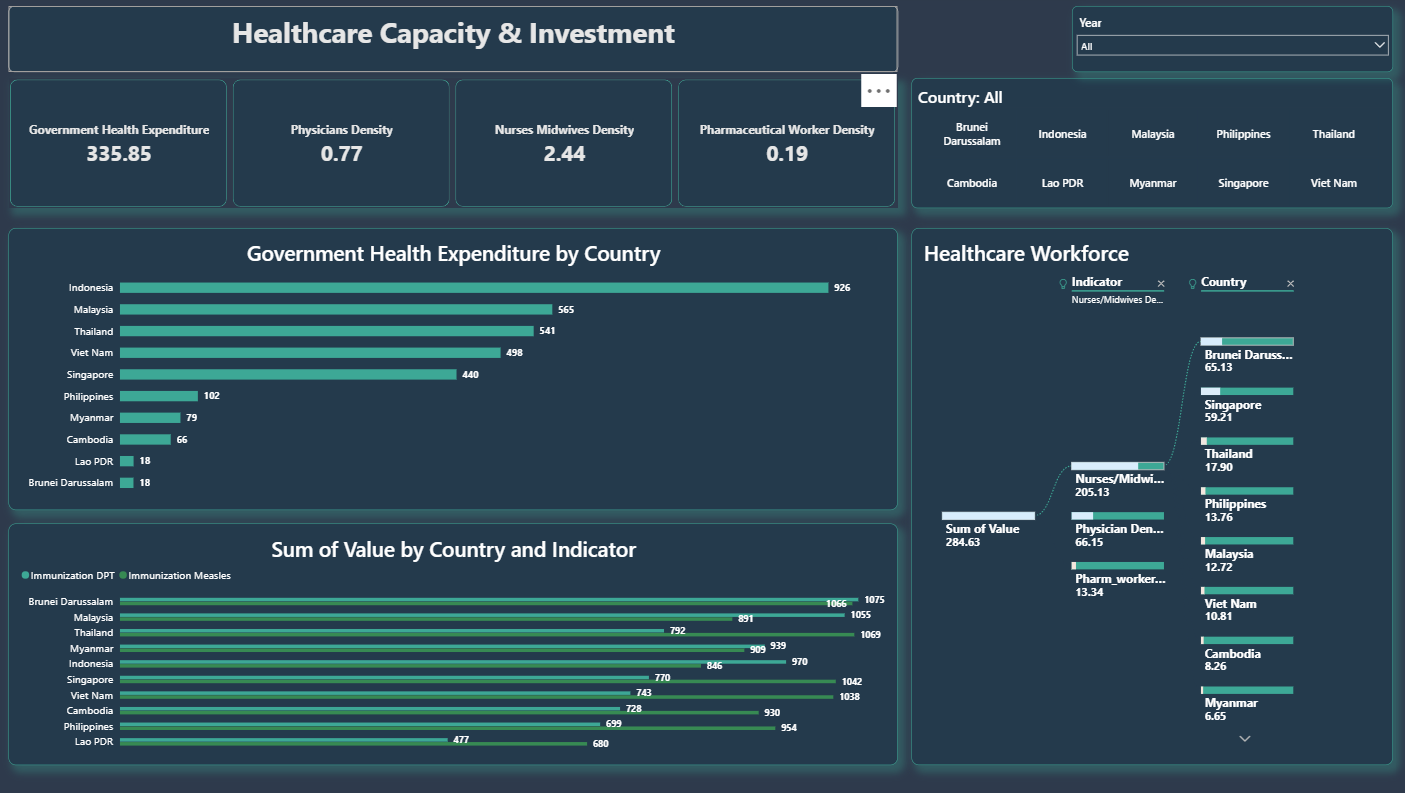

The page's visual inventory and layout, read from the dashboard file:
{"tool":"powerbi","page":{"name":"Capacity and Investment","canvas":[1920,1080],"ordinal":2},"visuals":[{"type":"slicer","fields":{"Values":["Dim_Country.Country"]},"box":[1242.9,113.5,650.9,176],"z":0},{"type":"slicer","fields":{"Values":["Dim_Year.Year"]},"box":[1459.9,16.2,433.9,89],"z":1000},{"type":"cardVisual","fields":{"Data":["Measure_Table.Government Health Expenditure","Measure_Table.Physicians Density","Measure_Table.Nurses Midwives Density","Measure_Table.Pharmaceutical Worker Density"]},"box":[22.3,113.5,1202.4,176],"z":3000},{"type":"clusteredBarChart","title":"DPT vs Measles Immunisation by Country","fields":{"Category":["Dim_Country.Country"],"Series":["Dim_Indicator.Indicator"],"Y":["Sum(Fact_Health_Indicators.Value)"]},"box":[22.3,715.7,1202,326.4],"z":5000},{"type":"clusteredBarChart","fields":{"Category":["Fact_Health_Indicators.Country"],"Y":["Measure_Table.Government Health Expenditure"]},"box":[22.3,316.8,1202,381.2],"z":6000},{"type":"textbox","box":[22.3,16.2,1202.4,89],"z":7000},{"type":"decompositionTreeVisual","title":"Healthcare Workforce","fields":{"Analyze":["Sum(Fact_Health_Indicators.Value)"],"ExplainBy":["Dim_Indicator.Indicator","Fact_Health_Indicators.Country"]},"box":[1242.9,316.3,650.9,725.9],"z":8000}]}

Visuals, with their boxes in screenshot pixels (x1, y1, x2, y2), scaled from the page's 1920x1080 canvas onto the 1405x793 screenshot:
slicer - Dim_Country.Country: x1=910 y1=83 x2=1386 y2=213
slicer - Dim_Year.Year: x1=1068 y1=12 x2=1386 y2=77
cardVisual - Measure_Table.Government Health Expenditure x Measure_Table.Physicians Density: x1=16 y1=83 x2=896 y2=213
"DPT vs Measles Immunisation by Country" clusteredBarChart: x1=16 y1=526 x2=896 y2=765
clusteredBarChart - Fact_Health_Indicators.Country x Measure_Table.Government Health Expenditure: x1=16 y1=233 x2=896 y2=513
textbox: x1=16 y1=12 x2=896 y2=77
"Healthcare Workforce" decompositionTreeVisual: x1=910 y1=232 x2=1386 y2=765
